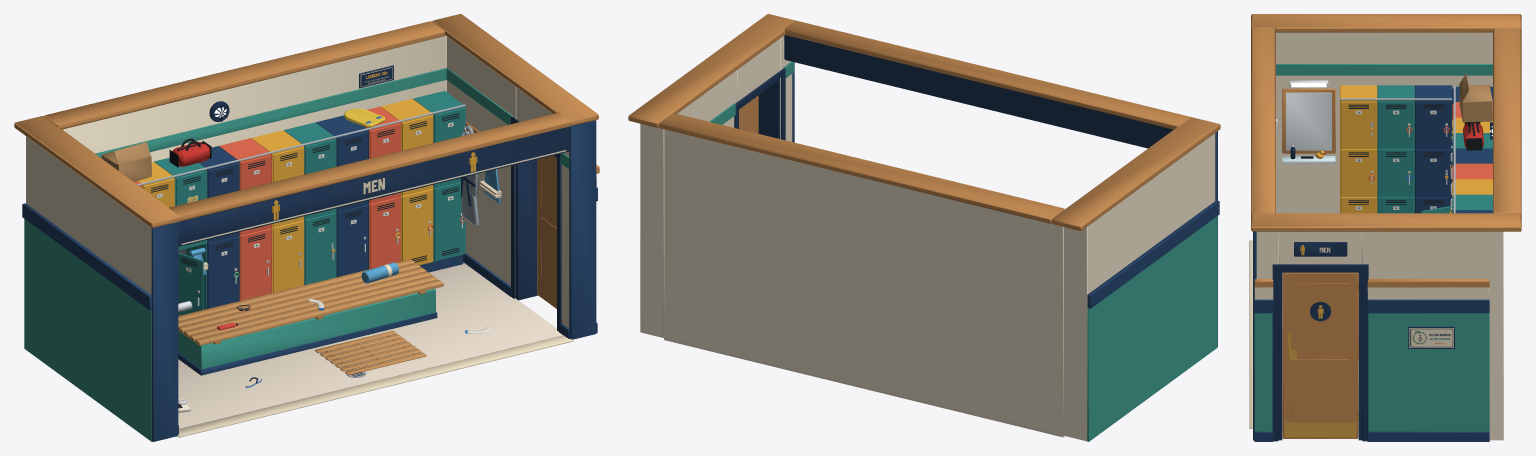
The model's file is locker_bay_men.glb.
3 views of the same model, side by side, from view 1: azimuth 30°, elevation 25°; view 2: azimuth 150°, elevation 25°; view 3: azimuth 270°, elevation 25° (orthographic). The views are drawn at different scales.
Visible parts, largest first — view 1: LockerBayMenBody, Door; view 2: LockerBayMenBody, Door; view 3: LockerBayMenBody, Door.
Boxes of the visible parts, left/top/right/bottom form: LockerBayMenBody: left=14, top=14, right=599, bottom=441; Door: left=537, top=155, right=556, bottom=308; LockerBayMenBody: left=628, top=14, right=1220, bottom=441; Door: left=739, top=95, right=758, bottom=133; LockerBayMenBody: left=1249, top=14, right=1521, bottom=441; Door: left=1282, top=272, right=1358, bottom=438.
Size of the model in its own units: 5.72 by 2.69 by 3.06.
58 materials, 4 textured.
